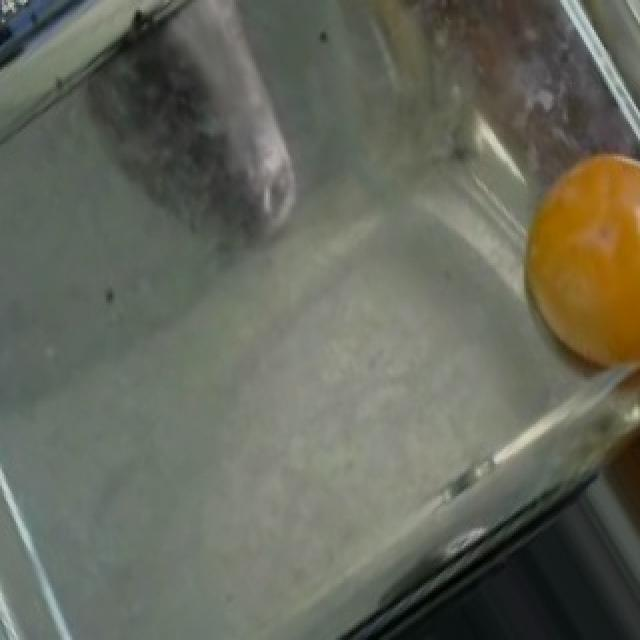Fruit: (498, 132, 640, 400)
